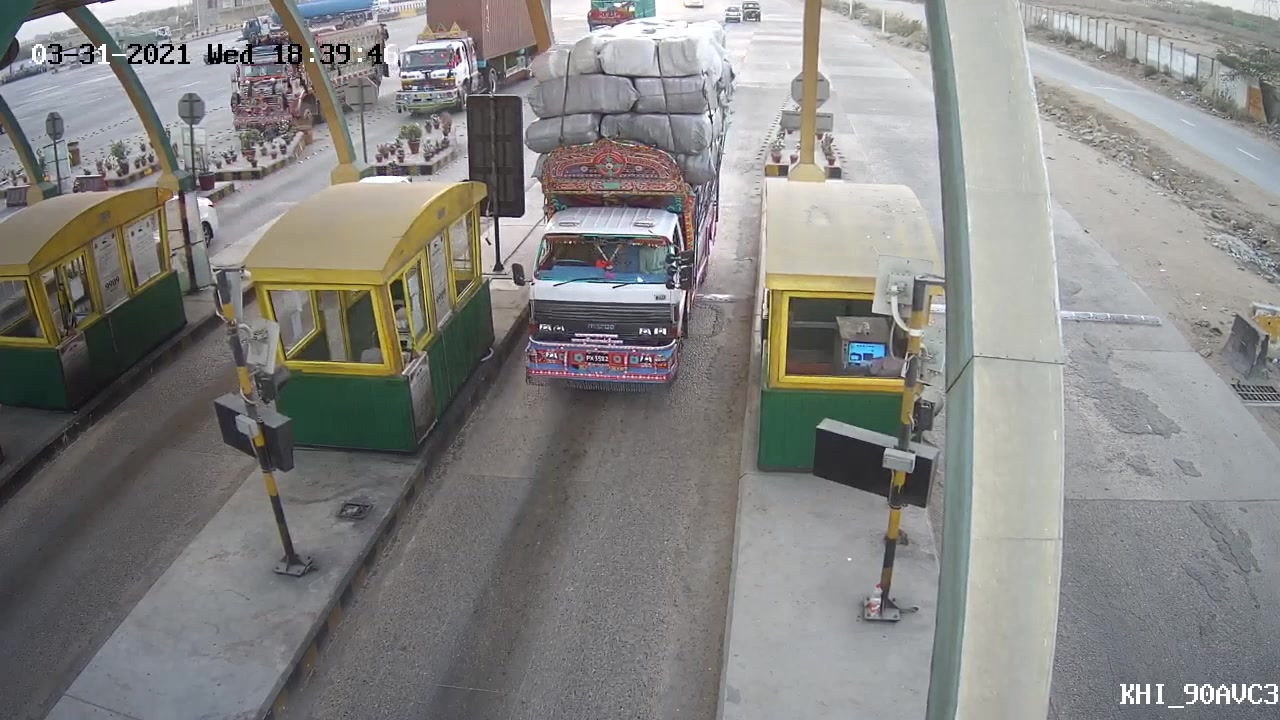F5: (518, 5, 736, 403)
